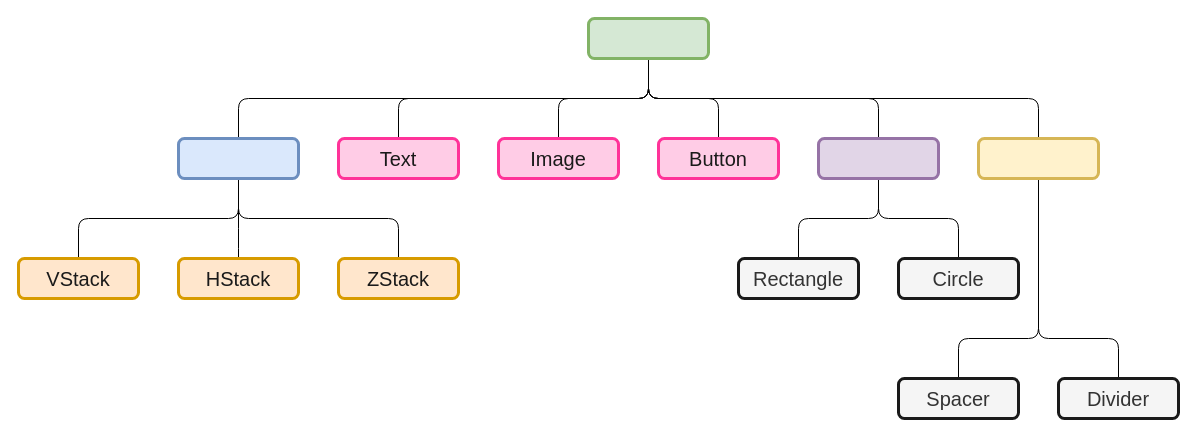
This 1197x437 diagram has some shape labels left out. Each missing label, with the box of its shape:
Container: (176, 136, 300, 180)
LayoutHelper: (976, 136, 1100, 180)
Shape: (816, 136, 940, 180)
View: (586, 16, 710, 60)
